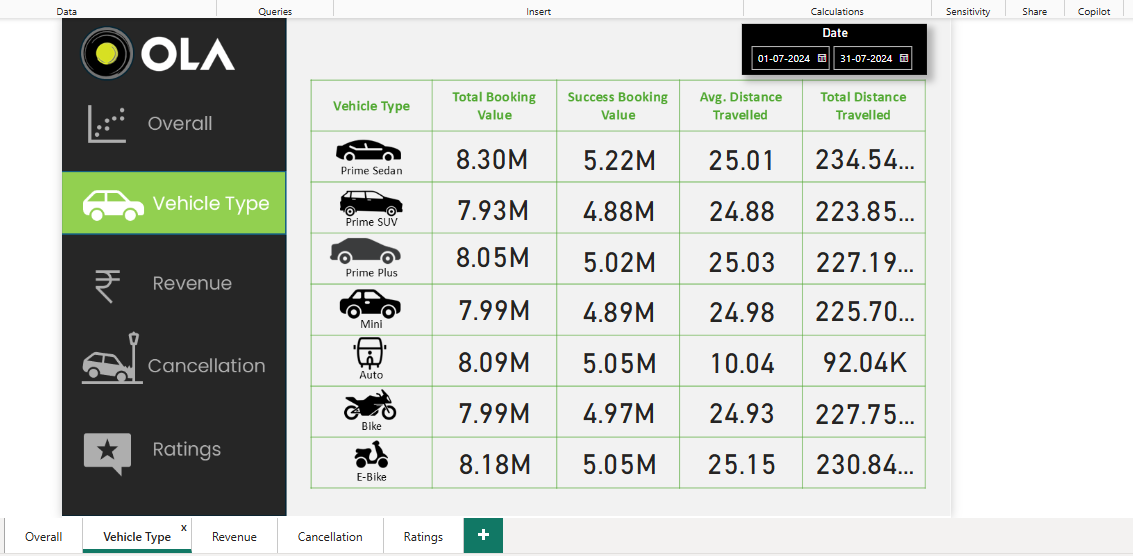

The page's visual inventory and layout, read from the dashboard file:
{"tool":"powerbi","page":{"name":"Vehicle Type","canvas":[1280,720],"ordinal":1},"visuals":[{"type":"actionButton","box":[0,339.8,324,92.2],"z":0},{"type":"actionButton","box":[0,445,324,92.2],"z":1000},{"type":"actionButton","box":[0,578.9,324,92.2],"z":2000},{"type":"actionButton","box":[0,113.3,323.3,91.7],"z":3000},{"type":"card","title":"Total Booking Value","fields":{"Values":["Sum(July.Booking_Value)"]},"box":[542.1,171.9,156.1,56.1],"z":4000},{"type":"card","title":"Total Booking Value","fields":{"Values":["Sum(July.Booking_Value)"]},"box":[542.1,243.9,157.9,57.9],"z":5000},{"type":"card","title":"Total Booking Value","fields":{"Values":["Sum(July.Booking_Value)"]},"box":[542.1,310.5,157.9,57.9],"z":6000},{"type":"card","title":"Total Booking Value","fields":{"Values":["Sum(July.Booking_Value)"]},"box":[543.9,389.5,156.1,56.1],"z":7000},{"type":"card","title":"Total Booking Value","fields":{"Values":["Sum(July.Booking_Value)"]},"box":[545.6,610.5,156.1,56.1],"z":8000},{"type":"card","title":"Total Booking Value","fields":{"Values":["Sum(July.Booking_Value)"]},"box":[543.9,463.2,156.1,56.1],"z":9000},{"type":"card","title":"Total Booking Value","fields":{"Values":["Sum(July.Booking_Value)"]},"box":[543.9,536.8,156.1,56.1],"z":10000},{"type":"card","title":"Total Booking Value","fields":{"Values":["Sum(July.Booking_Value)"]},"box":[724.4,172.2,155.6,55.6],"z":11000},{"type":"card","title":"Total Booking Value","fields":{"Values":["Sum(July.Booking_Value)"]},"box":[724.4,245.6,155.6,55.6],"z":12000},{"type":"card","title":"Total Booking Value","fields":{"Values":["Sum(July.Booking_Value)"]},"box":[724.4,320,155.6,55.6],"z":13000},{"type":"card","title":"Total Booking Value","fields":{"Values":["Sum(July.Booking_Value)"]},"box":[724.4,391.1,155.6,55.6],"z":14000},{"type":"card","title":"Total Booking Value","fields":{"Values":["Sum(July.Booking_Value)"]},"box":[724.4,464.4,155.6,55.6],"z":15000},{"type":"card","title":"Total Booking Value","fields":{"Values":["Sum(July.Booking_Value)"]},"box":[724.4,537.8,155.6,55.6],"z":16000},{"type":"card","title":"Total Booking Value","fields":{"Values":["Sum(July.Booking_Value)"]},"box":[724.4,610,155.6,55.6],"z":17000},{"type":"card","title":"Total Booking Value","fields":{"Values":["Avg(July.Ride_Distance)"]},"box":[901.1,245.6,155.6,55.6],"z":18000},{"type":"card","title":"Total Booking Value","fields":{"Values":["Avg(July.Ride_Distance)"]},"box":[901.1,320,155.6,55.6],"z":19000},{"type":"card","title":"Total Booking Value","fields":{"Values":["Avg(July.Ride_Distance)"]},"box":[901.1,391.1,155.6,55.6],"z":20000},{"type":"card","title":"Total Booking Value","fields":{"Values":["Avg(July.Ride_Distance)"]},"box":[901.1,464.4,155.6,55.6],"z":21000},{"type":"card","title":"Total Booking Value","fields":{"Values":["Avg(July.Ride_Distance)"]},"box":[901.1,537.8,155.6,55.6],"z":22000},{"type":"card","title":"Total Booking Value","fields":{"Values":["Avg(July.Ride_Distance)"]},"box":[901.1,610,155.6,55.6],"z":23000},{"type":"card","title":"Total Booking Value","fields":{"Values":["Avg(July.Ride_Distance)"]},"box":[901.1,172.2,155.6,55.6],"z":24000},{"type":"card","title":"Total Booking Value","fields":{"Values":["Sum(July.Ride_Distance)"]},"box":[1078.3,170,155,56.7],"z":25000},{"type":"card","title":"Total Booking Value","fields":{"Values":["Sum(July.Ride_Distance)"]},"box":[1078.3,245,155,56.7],"z":26000},{"type":"card","title":"Total Booking Value","fields":{"Values":["Sum(July.Ride_Distance)"]},"box":[1078.3,320,155,55],"z":27000},{"type":"card","title":"Total Booking Value","fields":{"Values":["Sum(July.Ride_Distance)"]},"box":[1078.3,390,155,55],"z":28000},{"type":"card","title":"Total Booking Value","fields":{"Values":["Sum(July.Ride_Distance)"]},"box":[1078.3,463.3,155,55],"z":29000},{"type":"card","title":"Total Booking Value","fields":{"Values":["Sum(July.Ride_Distance)"]},"box":[1078.3,538.3,155,55],"z":30000},{"type":"card","title":"Total Booking Value","fields":{"Values":["Sum(July.Ride_Distance)"]},"box":[1078.3,610,155,55],"z":31000},{"type":"slicer","title":"Date","fields":{"Values":["July.Date"]},"box":[979.7,8.9,266.4,73.3],"z":32000}]}

Visuals, with their boxes on the page's 1280x720 design canvas (x1, y1, x2, y2). These are canvas units, not pixel positions in the 1133x556 screenshot, which may show the page scaled, cropped or inside an application window:
actionButton: (left=0, top=340, right=324, bottom=432)
actionButton: (left=0, top=445, right=324, bottom=537)
actionButton: (left=0, top=579, right=324, bottom=671)
actionButton: (left=0, top=113, right=323, bottom=205)
"Total Booking Value" card: (left=542, top=172, right=698, bottom=228)
"Total Booking Value" card: (left=542, top=244, right=700, bottom=302)
"Total Booking Value" card: (left=542, top=310, right=700, bottom=368)
"Total Booking Value" card: (left=544, top=390, right=700, bottom=446)
"Total Booking Value" card: (left=546, top=610, right=702, bottom=667)
"Total Booking Value" card: (left=544, top=463, right=700, bottom=519)
"Total Booking Value" card: (left=544, top=537, right=700, bottom=593)
"Total Booking Value" card: (left=724, top=172, right=880, bottom=228)
"Total Booking Value" card: (left=724, top=246, right=880, bottom=301)
"Total Booking Value" card: (left=724, top=320, right=880, bottom=376)
"Total Booking Value" card: (left=724, top=391, right=880, bottom=447)
"Total Booking Value" card: (left=724, top=464, right=880, bottom=520)
"Total Booking Value" card: (left=724, top=538, right=880, bottom=593)
"Total Booking Value" card: (left=724, top=610, right=880, bottom=666)
"Total Booking Value" card: (left=901, top=246, right=1057, bottom=301)
"Total Booking Value" card: (left=901, top=320, right=1057, bottom=376)
"Total Booking Value" card: (left=901, top=391, right=1057, bottom=447)
"Total Booking Value" card: (left=901, top=464, right=1057, bottom=520)
"Total Booking Value" card: (left=901, top=538, right=1057, bottom=593)
"Total Booking Value" card: (left=901, top=610, right=1057, bottom=666)
"Total Booking Value" card: (left=901, top=172, right=1057, bottom=228)
"Total Booking Value" card: (left=1078, top=170, right=1233, bottom=227)
"Total Booking Value" card: (left=1078, top=245, right=1233, bottom=302)
"Total Booking Value" card: (left=1078, top=320, right=1233, bottom=375)
"Total Booking Value" card: (left=1078, top=390, right=1233, bottom=445)
"Total Booking Value" card: (left=1078, top=463, right=1233, bottom=518)
"Total Booking Value" card: (left=1078, top=538, right=1233, bottom=593)
"Total Booking Value" card: (left=1078, top=610, right=1233, bottom=665)
"Date" slicer: (left=980, top=9, right=1246, bottom=82)
